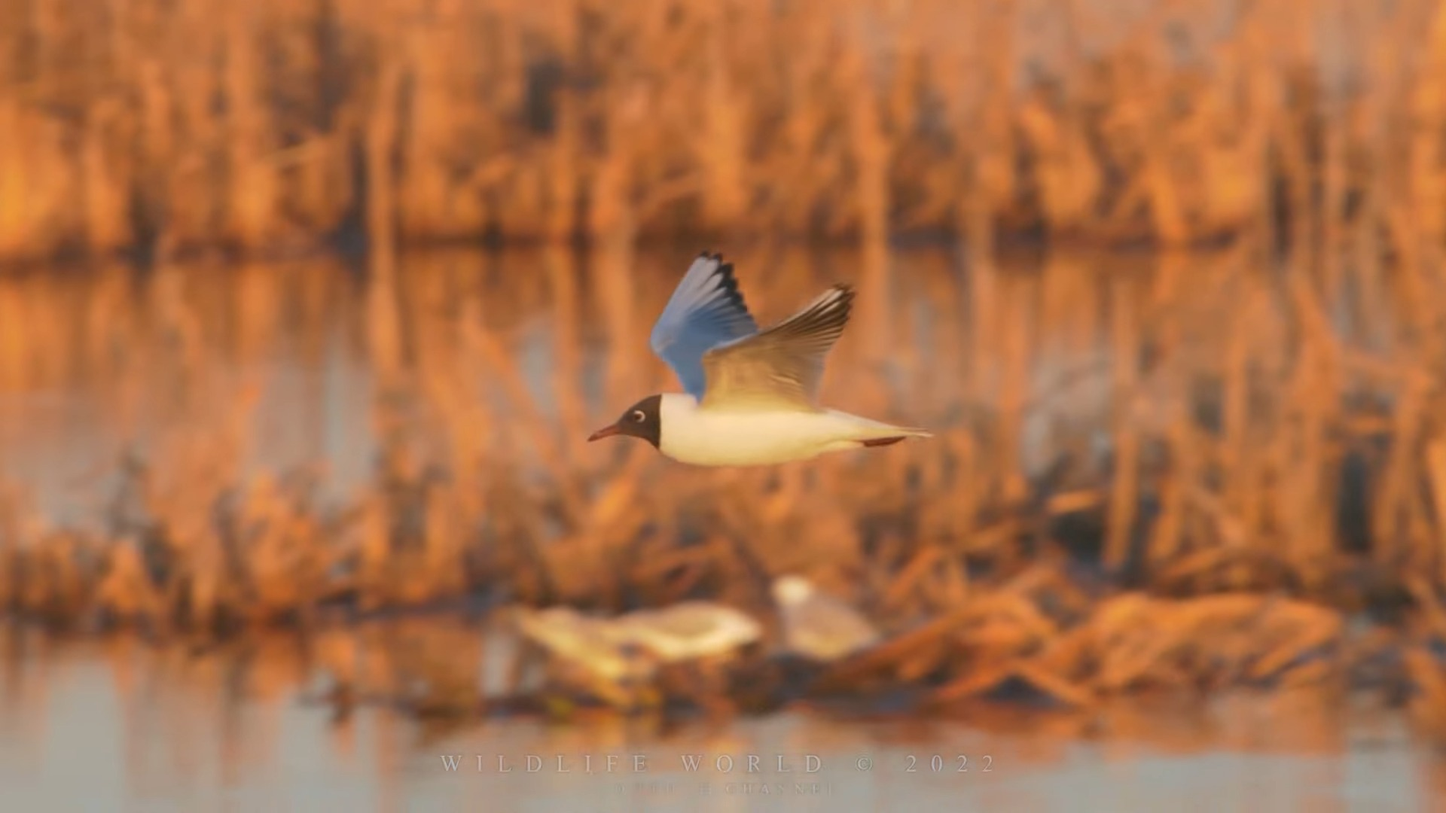not_drone: (582, 258, 939, 471)
